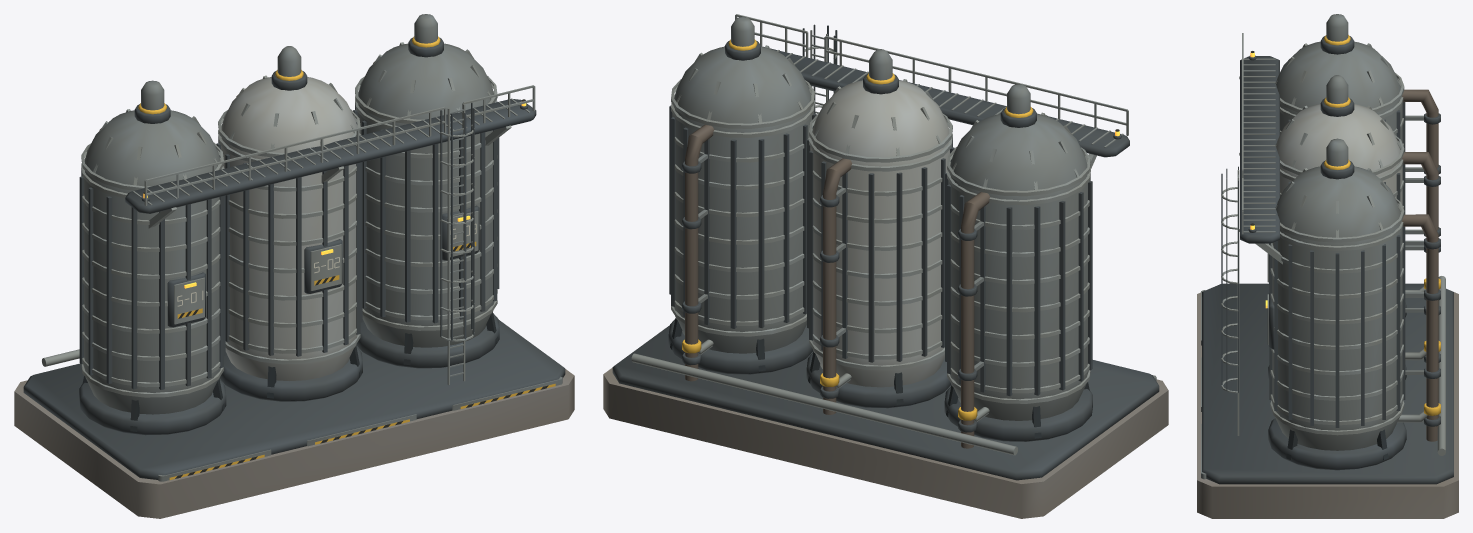
Rendered from storage_silo_bank.glb.
3 views of the same model, side by side, from view 1: azimuth 30°, elevation 25°; view 2: azimuth 150°, elevation 25°; view 3: azimuth 270°, elevation 25° (orthographic). The views are drawn at different scales.
Parts seen in each view (by area): view 1: Foundation, Silo 1 pressure shell, Silo 2 pressure shell, Silo 3 pressure shell, Inter-silo access and ladder cage; view 2: Silo 1 pressure shell, Foundation, Silo 2 pressure shell, Silo 3 pressure shell, Transfer valves and external feed lines, Inter-silo access and ladder cage; view 3: Silo 3 pressure shell, Foundation, Inter-silo access and ladder cage, Transfer valves and external feed lines, Silo 2 pressure shell, Silo 1 pressure shell.
Part boxes in pixels (x1=…): Foundation: x1=14, y1=320, x2=574, y2=518; Silo 1 pressure shell: x1=79, y1=80, x2=226, y2=435; Silo 2 pressure shell: x1=216, y1=46, x2=362, y2=401; Silo 3 pressure shell: x1=353, y1=14, x2=499, y2=368; Inter-silo access and ladder cage: x1=125, y1=85, x2=536, y2=384; Silo 1 pressure shell: x1=944, y1=84, x2=1092, y2=441; Foundation: x1=603, y1=325, x2=1168, y2=518; Silo 2 pressure shell: x1=806, y1=49, x2=954, y2=408; Silo 3 pressure shell: x1=668, y1=17, x2=816, y2=374; Transfer valves and external feed lines: x1=631, y1=124, x2=1017, y2=455; Inter-silo access and ladder cage: x1=724, y1=14, x2=1129, y2=168; Silo 3 pressure shell: x1=1265, y1=138, x2=1406, y2=470; Foundation: x1=1197, y1=283, x2=1458, y2=518; Inter-silo access and ladder cage: x1=1221, y1=33, x2=1282, y2=435; Transfer valves and external feed lines: x1=1397, y1=89, x2=1445, y2=455; Silo 2 pressure shell: x1=1267, y1=75, x2=1406, y2=379; Silo 1 pressure shell: x1=1275, y1=14, x2=1406, y2=317.
Size of the model in its own units: 18 by 14.45 by 10.
